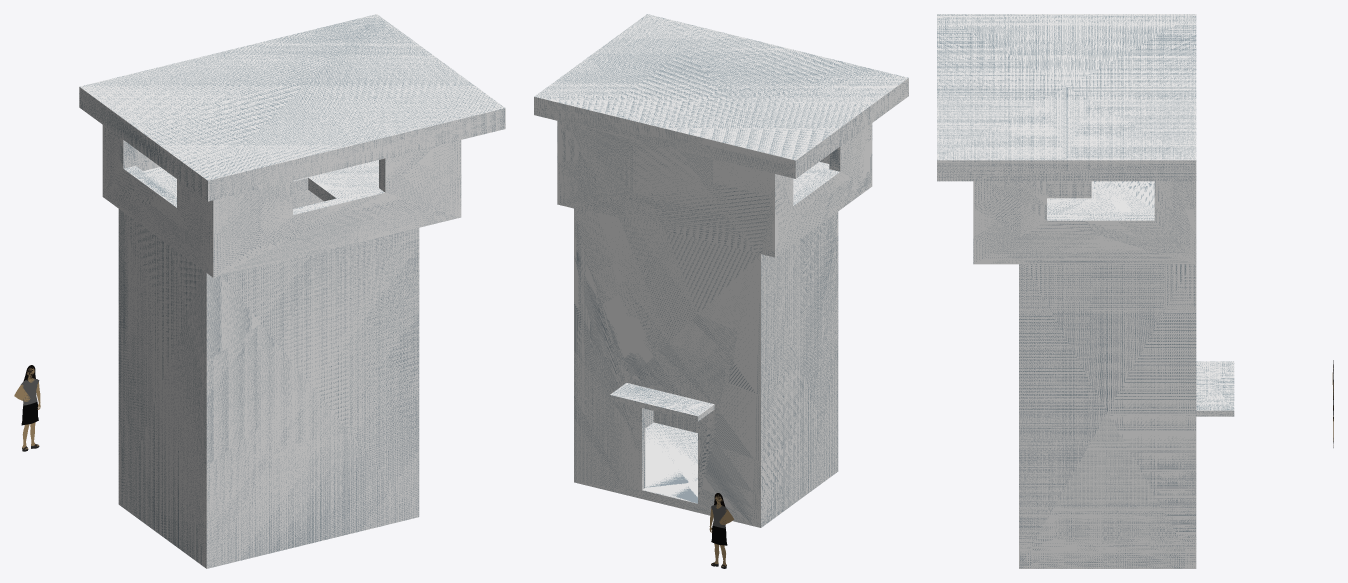
Rendered from Guard Tower 1.fbx.
3 views of the same model, side by side, from view 1: azimuth 30°, elevation 25°; view 2: azimuth 150°, elevation 25°; view 3: azimuth 270°, elevation 25° (orthographic). The views are drawn at different scales.
Parts seen in each view (by area): view 1: Model, Sophie1; view 2: Model, Sophie1; view 3: Model.
Part boxes in pixels (x1,y1,x2,y2): Model: (79, 14, 505, 568); Sophie1: (14, 365, 40, 451); Model: (534, 14, 908, 527); Sophie1: (709, 493, 733, 568); Model: (937, 14, 1234, 568).
Bounding box in the file's own units: 6.2 × 8.51 × 7.1.
